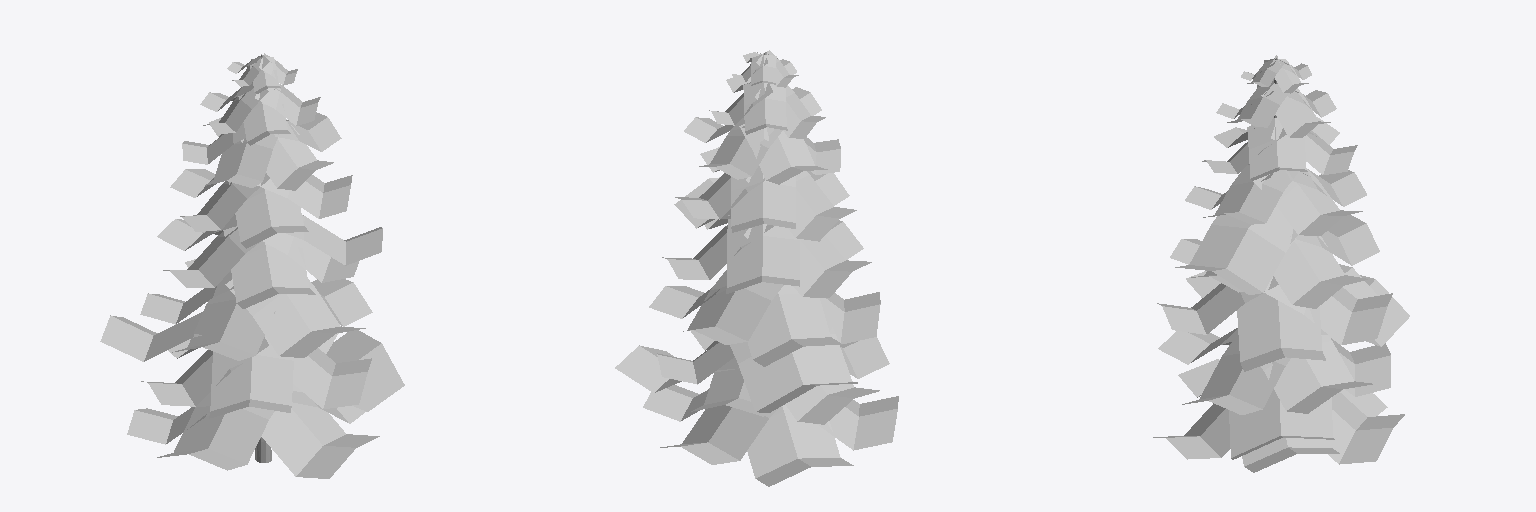
Rendered from Pine_5.obj.
3 renders of one model, left to right at view 1: azimuth 30°, elevation 25°; view 2: azimuth 150°, elevation 25°; view 3: azimuth 270°, elevation 25°, orthographic.
Parts seen in each view (by area): view 1: Pine_5; view 2: Pine_5; view 3: Pine_5.
Boxes of the visible parts, <box> form: Pine_5: <box>100,53,404,478</box>; Pine_5: <box>615,50,898,486</box>; Pine_5: <box>1153,55,1409,472</box>.
Size of the model in its own units: 6.8 by 10.31 by 6.04.